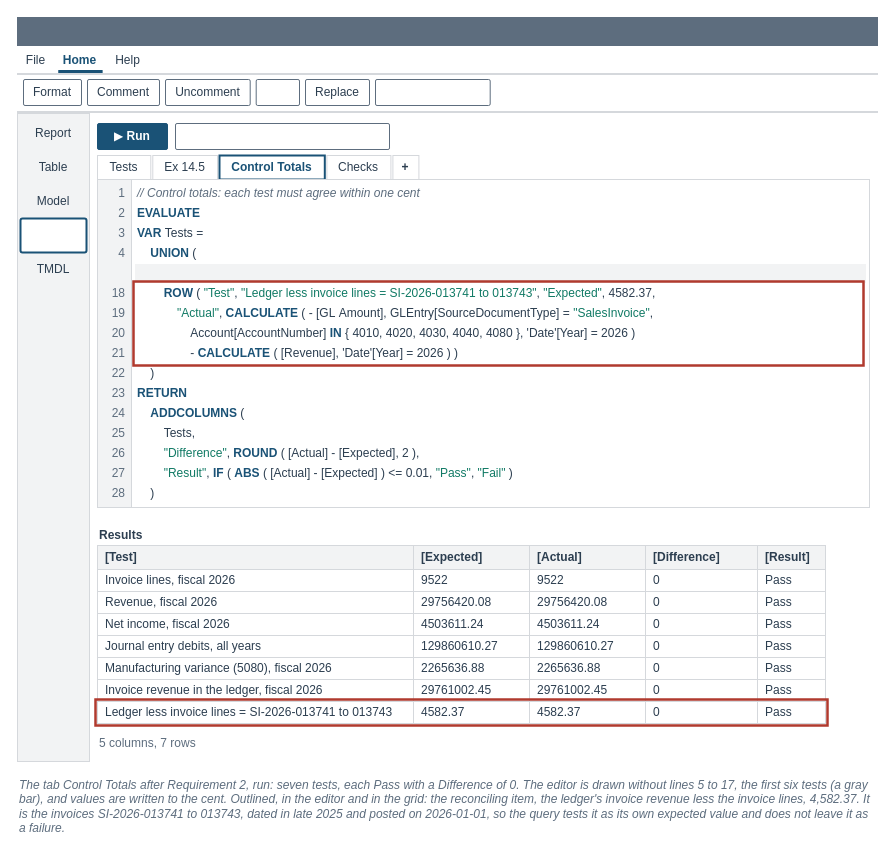
The diagram is 895 pixels wide and 859 high, and some of its shapes have lost their labels. The shapes that lost their labels are listed below. From the top down, each one's centre as x and y in pixels, then its label:
point (447, 31): Chapter 14 Exercises - Solutions - Power BI Desktop
point (277, 92): Find
point (432, 92): Command palette
point (282, 136): Update model with changes (0)
point (53, 235): DAX query
point (500, 273): … lines 5 to 17 not shown: the first six tests, each a ROW
